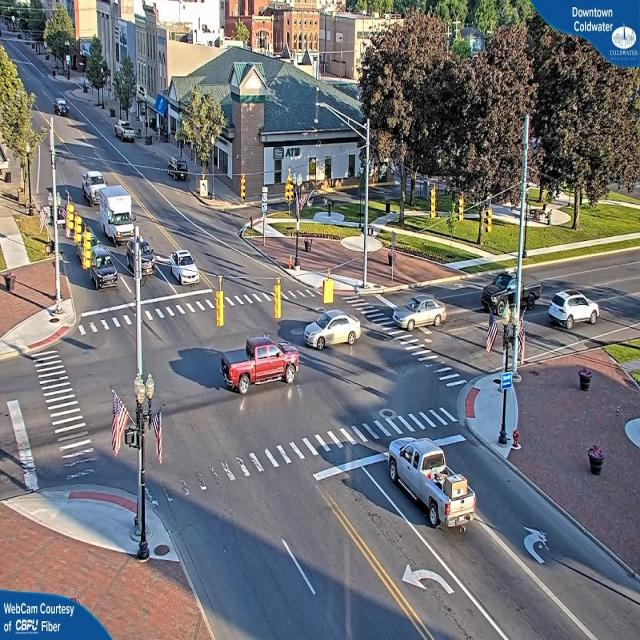car: (385, 439, 476, 537), (217, 337, 296, 394), (486, 269, 544, 315), (548, 290, 602, 330), (302, 312, 359, 347), (394, 295, 442, 331), (167, 251, 200, 287), (90, 245, 117, 288), (126, 236, 156, 274), (81, 170, 104, 203), (166, 158, 188, 180), (116, 124, 136, 142), (54, 98, 68, 117)
truck: (102, 184, 138, 245)
